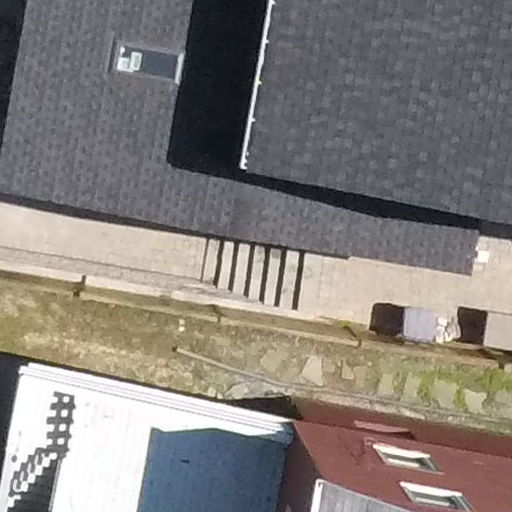gutter: (162, 337, 512, 436)
